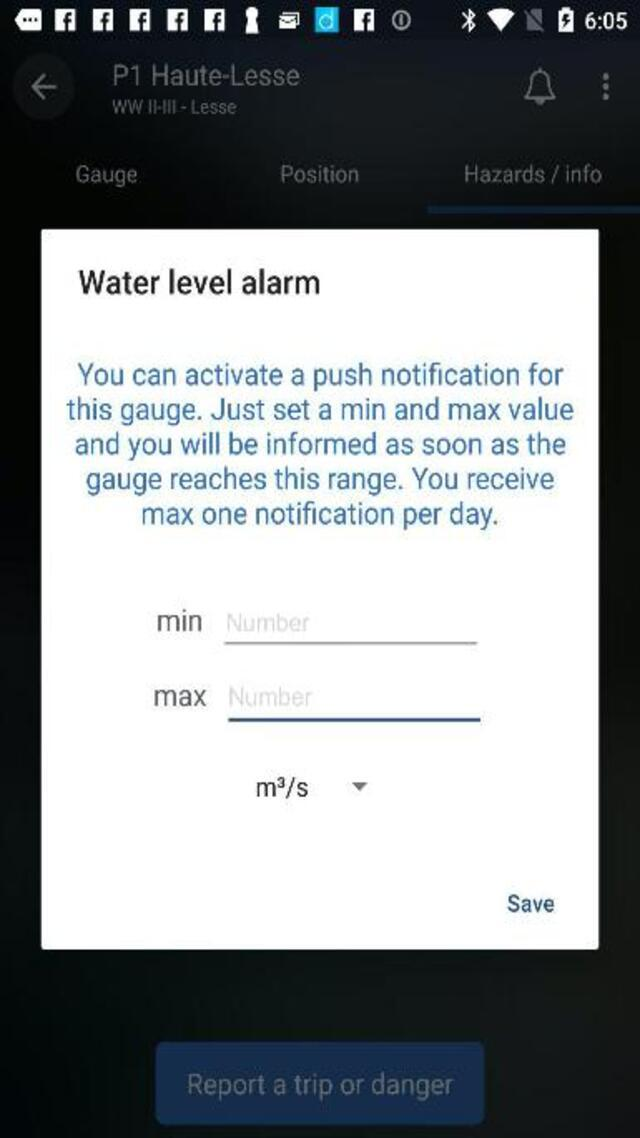Icon: (12, 53, 74, 121), (524, 68, 556, 106), (602, 73, 608, 101), (352, 783, 366, 790)
Text: (81, 464, 560, 500), (71, 429, 572, 459), (59, 398, 579, 425), (136, 500, 498, 534), (75, 363, 566, 388), (181, 1067, 459, 1101), (80, 268, 319, 294), (115, 64, 301, 85), (466, 164, 602, 184), (112, 100, 237, 114), (230, 685, 312, 705), (227, 610, 308, 630), (280, 166, 358, 184), (76, 166, 136, 186), (256, 776, 308, 796), (158, 610, 201, 631), (156, 689, 206, 705), (507, 896, 554, 912)
TextButton: (156, 1040, 487, 1126)
